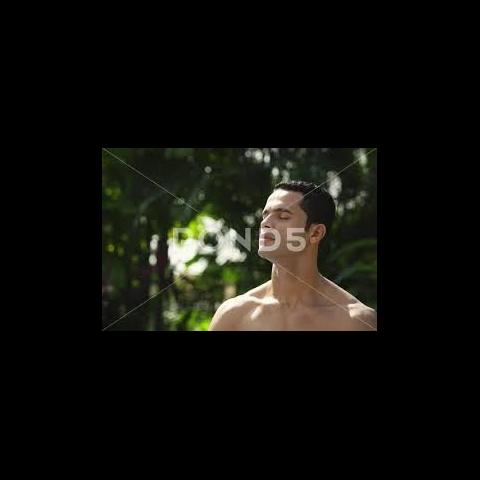closed: (258, 207, 294, 226)
